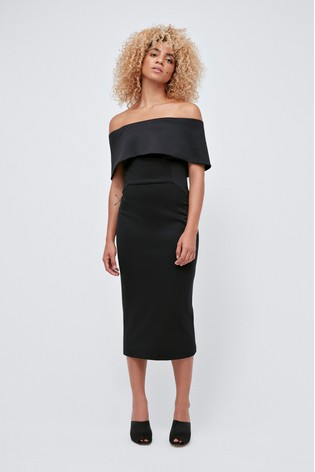S_dress: (101, 116, 227, 351)
